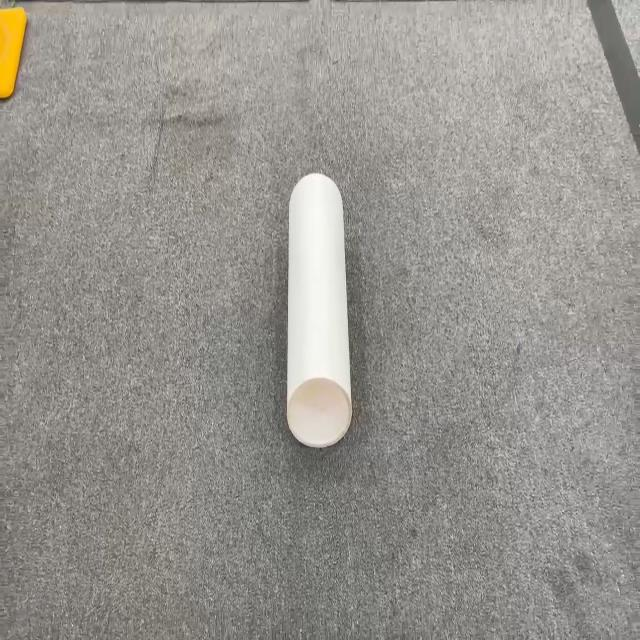coral: (285, 171, 353, 448)
